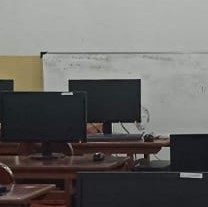monitor: (0, 91, 87, 144), (68, 79, 141, 123), (135, 133, 208, 173), (0, 162, 56, 203), (0, 79, 14, 91)
